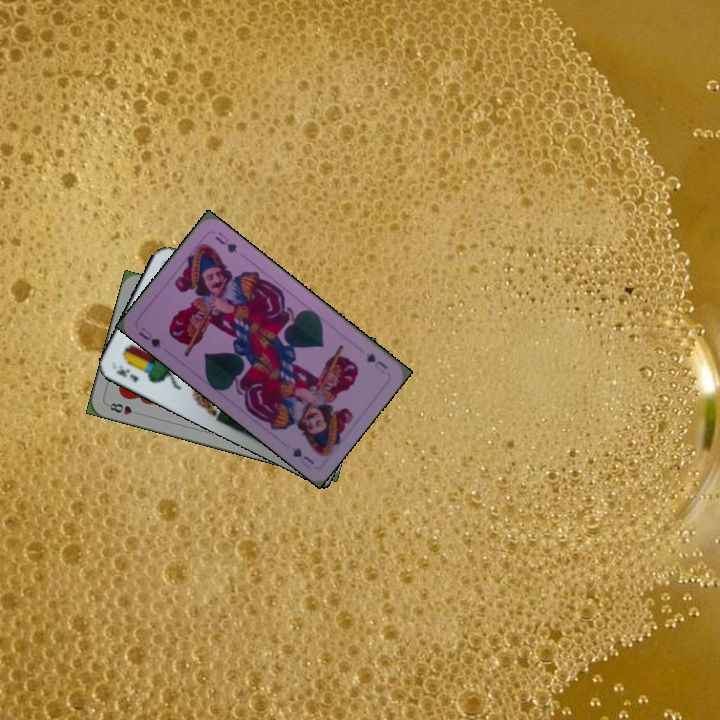EK: (112, 361, 141, 385)
GU: (134, 323, 164, 351), (362, 349, 390, 376)
H8: (103, 399, 143, 418)
